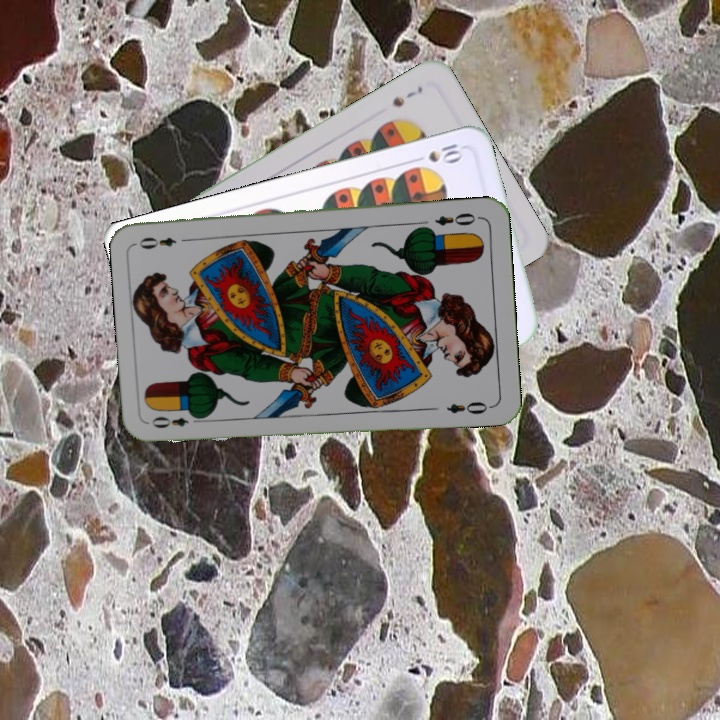EO: (148, 409, 205, 431), (431, 208, 478, 229)
S10: (408, 138, 466, 166)
S7: (388, 82, 426, 110)
